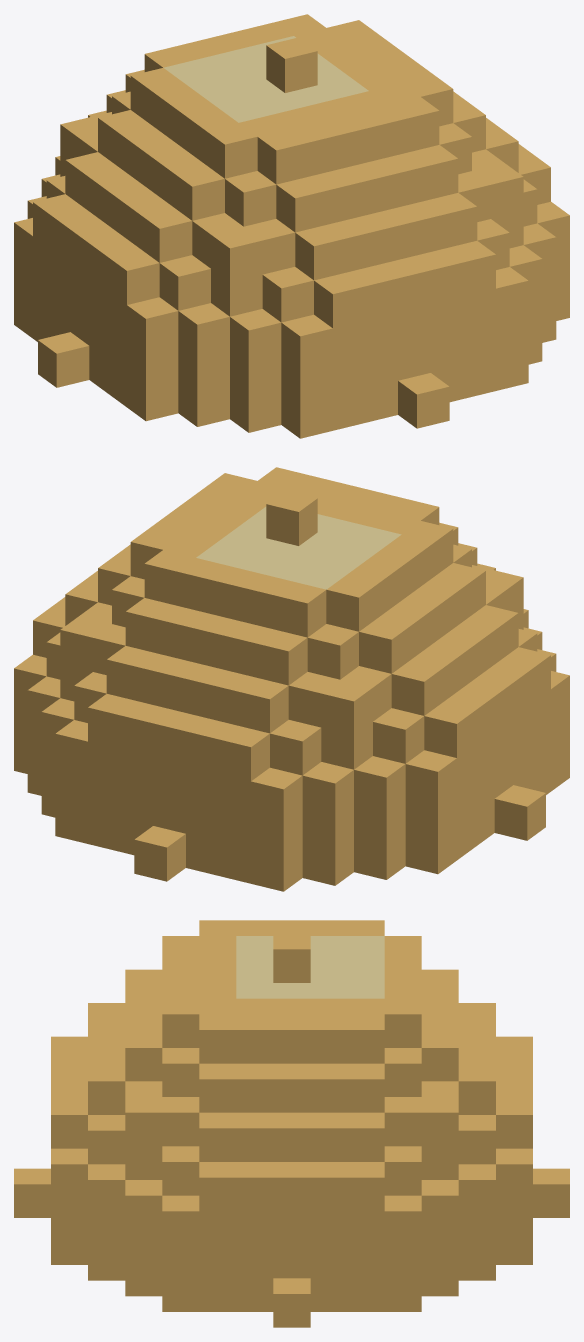
The model's file is cap_top.glb.
3 renders of one model, top to bottom at view 1: azimuth 30°, elevation 25°; view 2: azimuth 150°, elevation 25°; view 3: azimuth 270°, elevation 25°, orthographic.
Bounding box in the file's own units: 15 × 8 × 15.
